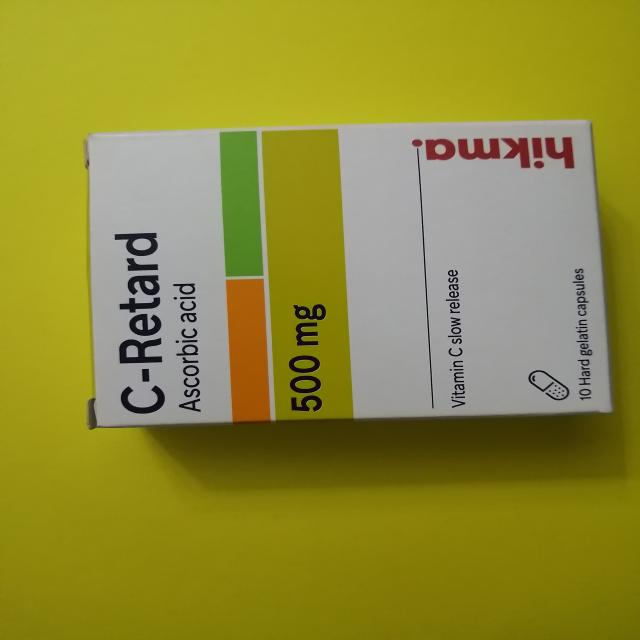C-Retard: (84, 114, 636, 467)
